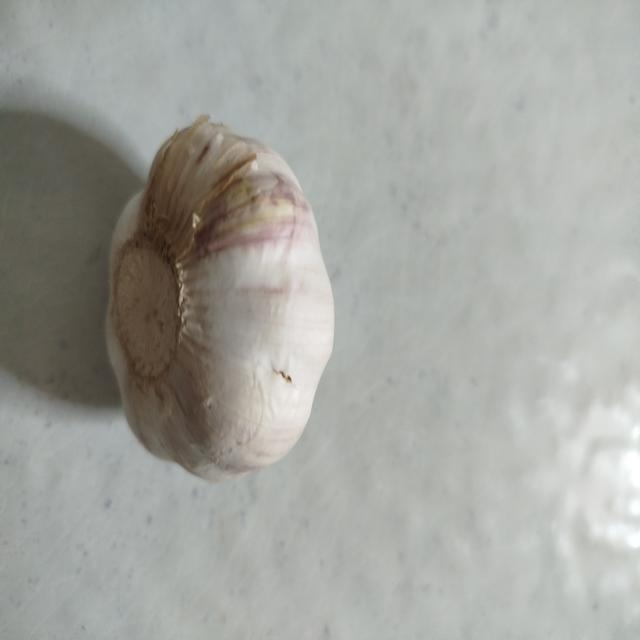garlic: (104, 113, 336, 483)
